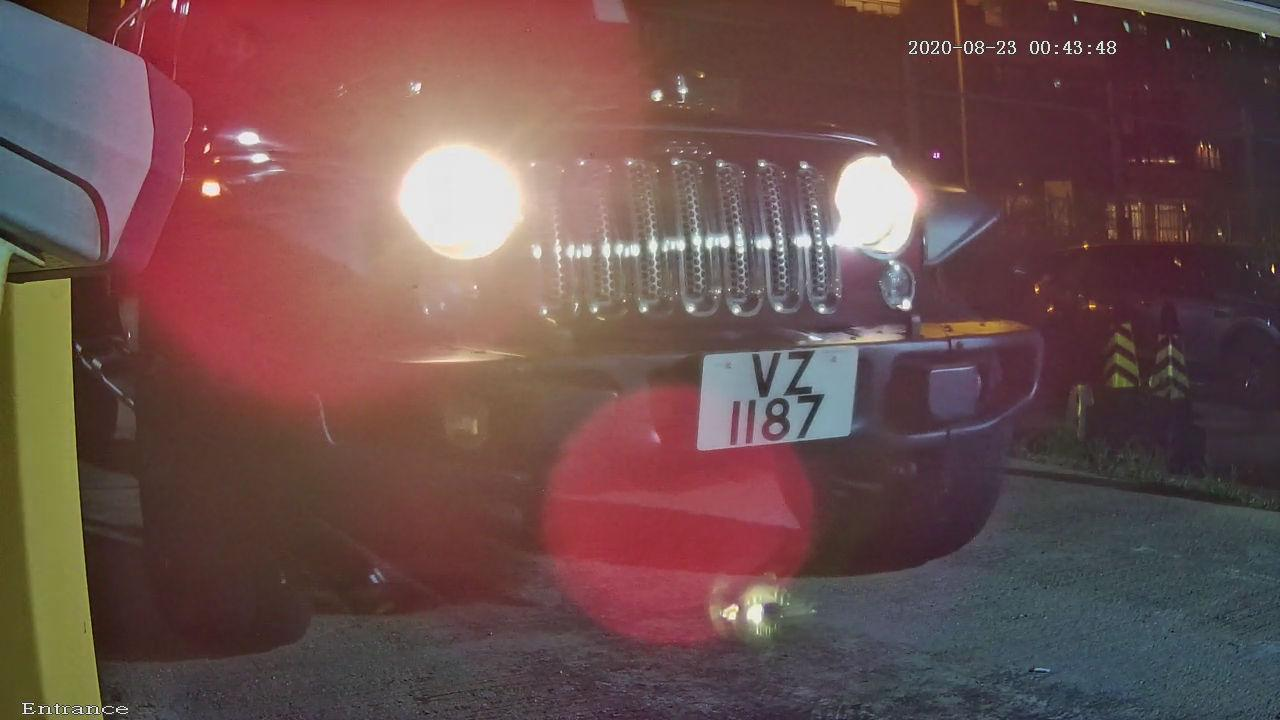Car: (75, 10, 1149, 640)
License Plate: (675, 309, 886, 467)
